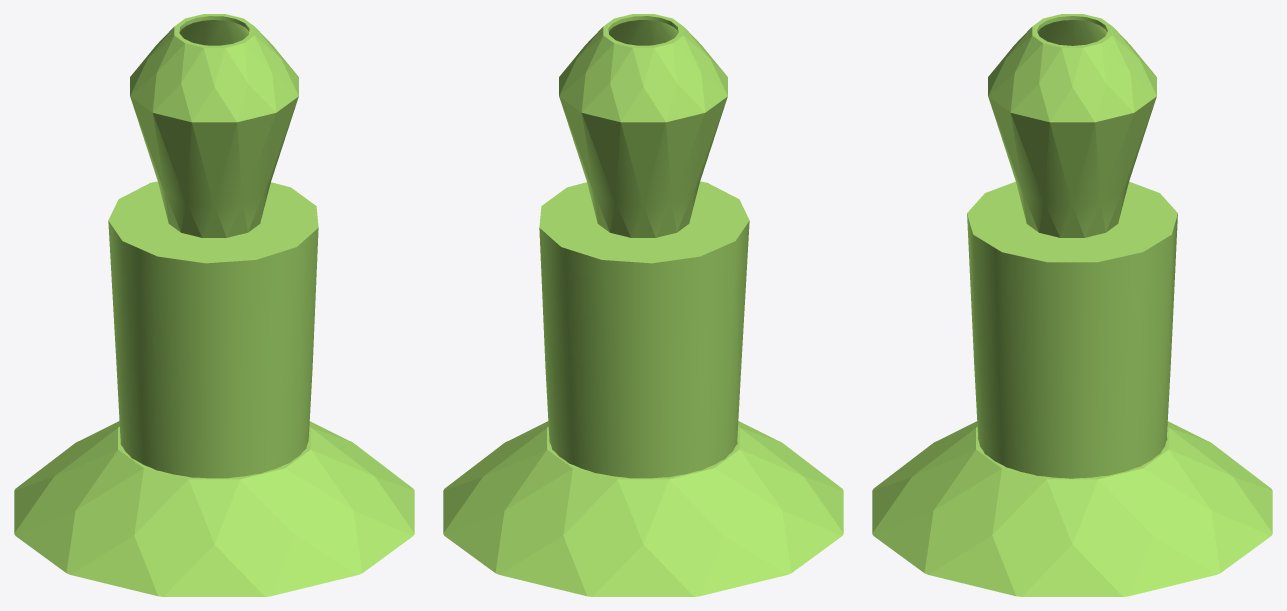
Rendered from cachimba.obj.
3 views of the same model, side by side, from view 1: azimuth 30°, elevation 25°; view 2: azimuth 150°, elevation 25°; view 3: azimuth 270°, elevation 25° (orthographic).
Bounding box in the file's own units: 188 × 250 × 188.
